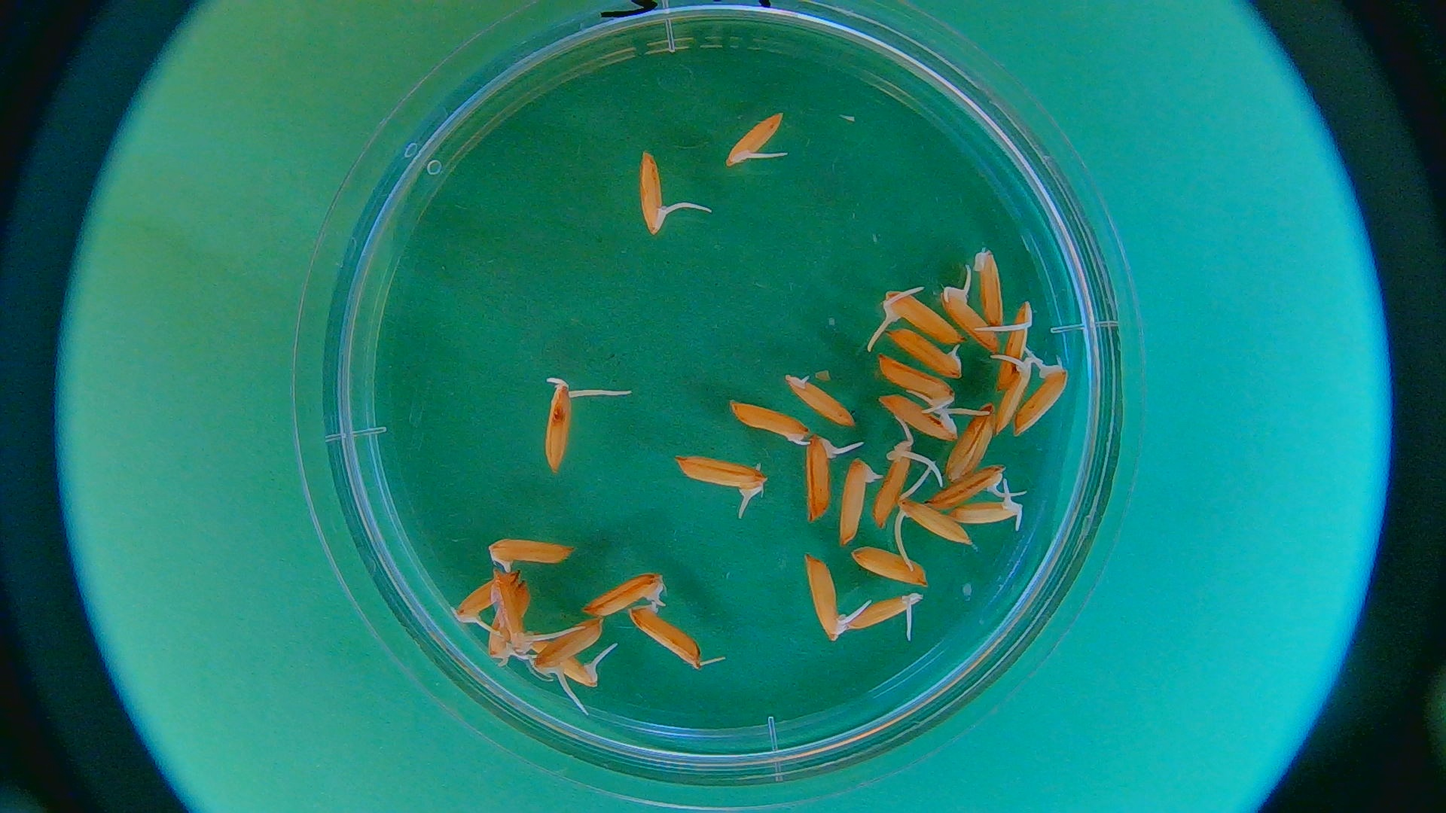no: (628, 605, 706, 671), (944, 404, 998, 478), (845, 544, 930, 588), (486, 537, 575, 575), (837, 458, 874, 539), (970, 249, 1010, 321)
yes: (873, 352, 957, 407), (782, 370, 858, 429), (885, 329, 969, 380), (886, 287, 962, 342), (535, 636, 609, 692), (676, 452, 773, 494), (450, 568, 520, 626), (931, 464, 1011, 513), (729, 398, 809, 447), (880, 391, 959, 440), (895, 494, 969, 545), (538, 376, 577, 470), (533, 620, 602, 673), (807, 556, 850, 641), (940, 285, 996, 349), (871, 440, 912, 526), (722, 110, 785, 164), (490, 571, 528, 660), (842, 589, 920, 632), (1017, 368, 1069, 432), (582, 575, 660, 617), (630, 153, 667, 236), (994, 357, 1030, 439), (1001, 301, 1033, 384), (804, 432, 834, 518), (947, 497, 1020, 527)
